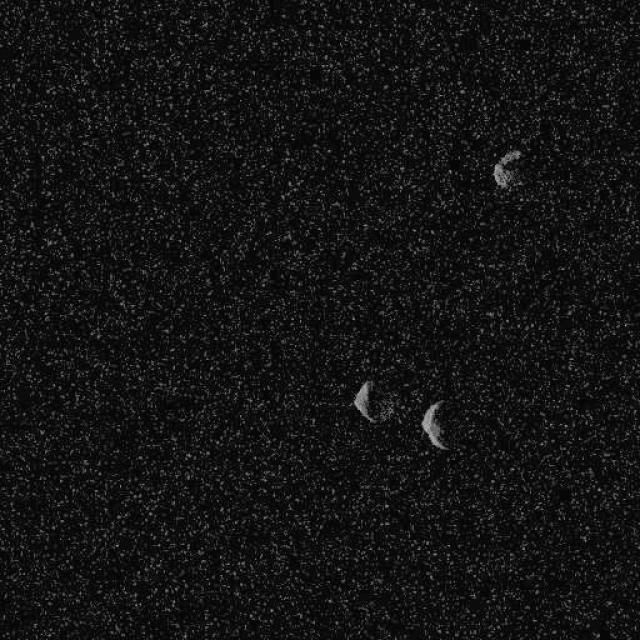D2: (420, 399, 450, 450), (491, 148, 524, 190), (352, 378, 376, 422)
